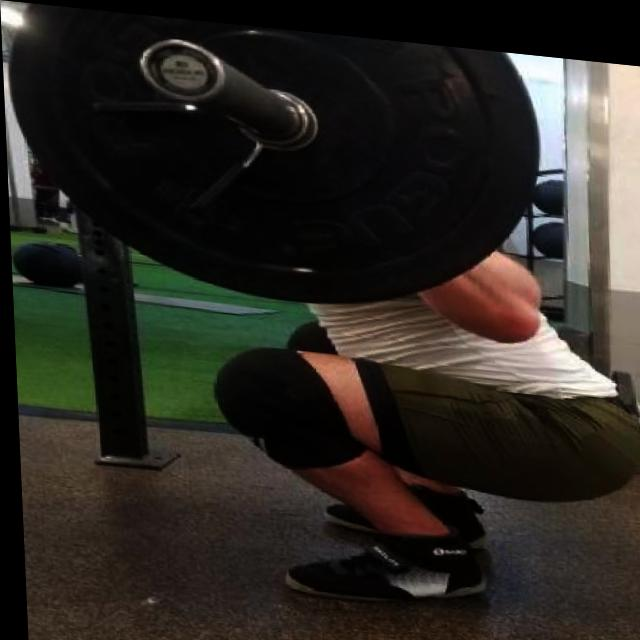barbell: (1, 1, 552, 324)
